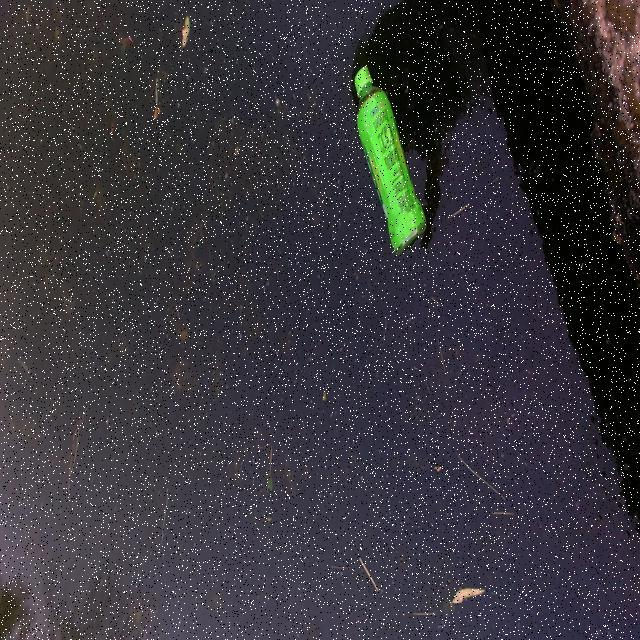Bottle: (338, 58, 437, 260)
